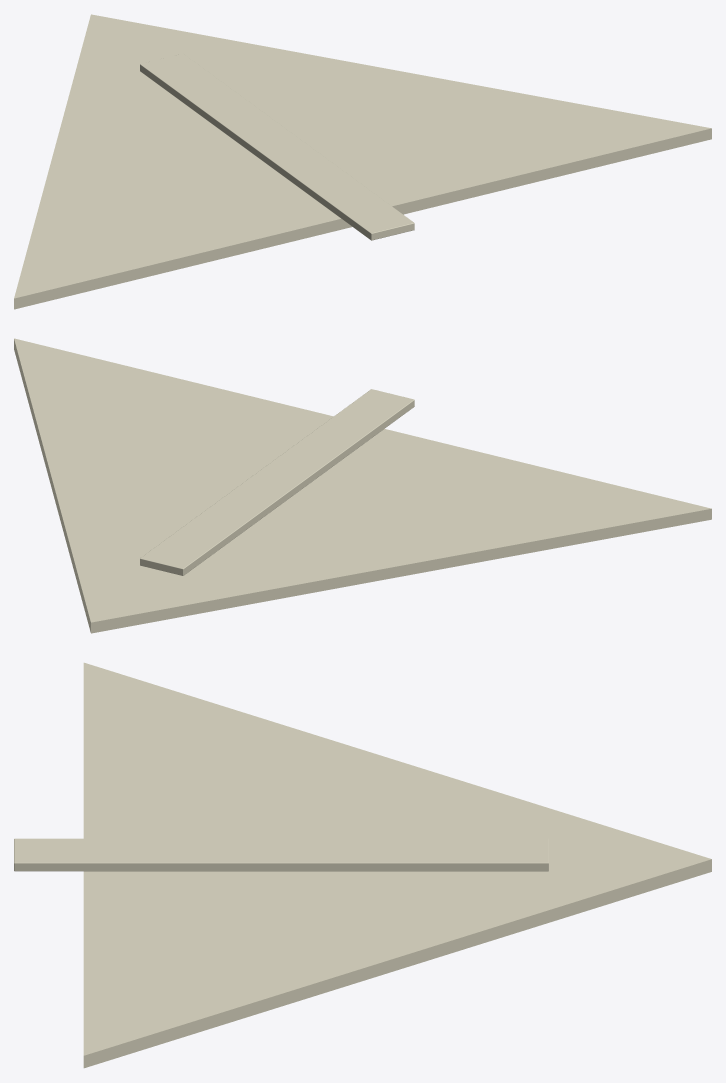
The model's file is triangular-bandage.glb.
3 views of the same model, one above another, from view 1: azimuth 30°, elevation 25°; view 2: azimuth 150°, elevation 25°; view 3: azimuth 270°, elevation 25° (orthographic). The views are drawn at different scales.
Parts seen in each view (by area): view 1: triangular-bandage; view 2: triangular-bandage; view 3: triangular-bandage.
Boxes of the visible parts, x1=… form: triangular-bandage: x1=14, y1=14, x2=711, y2=309; triangular-bandage: x1=14, y1=338, x2=711, y2=633; triangular-bandage: x1=14, y1=662, x2=711, y2=1068.
Bounding box in the file's own units: 0.4 × 0.01 × 0.3.
